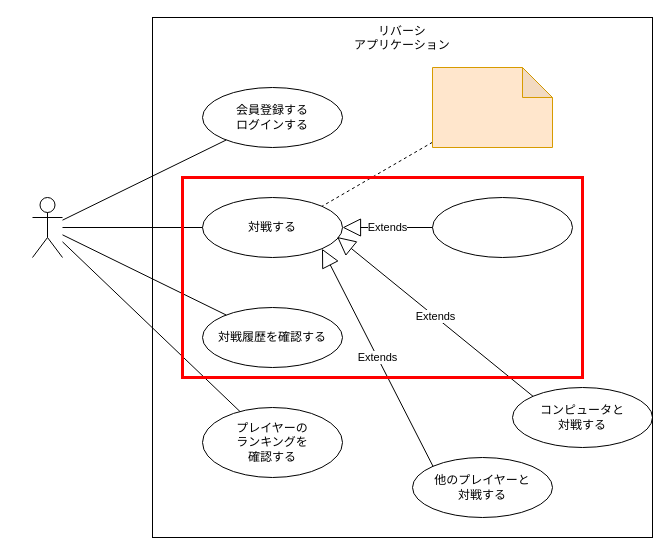
Image size: 670x555. Some labels were removed from this diagram. Each missing label, with the centre of its shape:
"プレイヤー" goes at point 47,227.
"・対戦を開始 ・盤面を見る ・石を打つ ・勝敗を確認する" goes at point 492,107.
"一人で白黒交互に打つ" goes at point 502,227.
